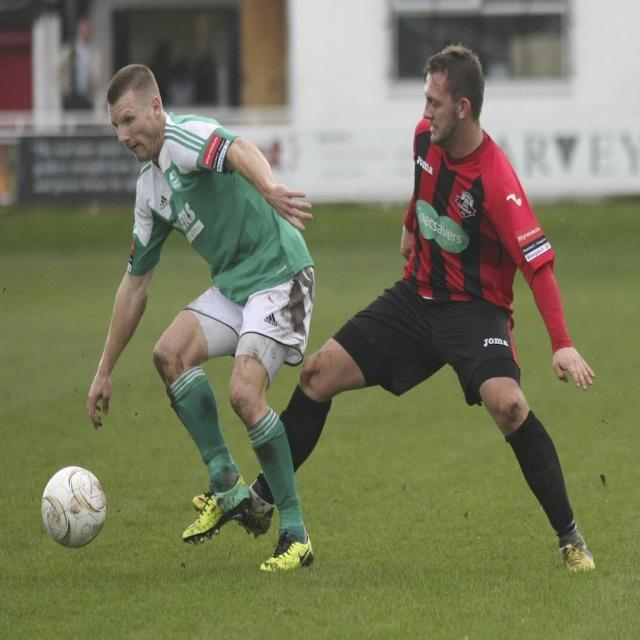football: (29, 465, 129, 560)
